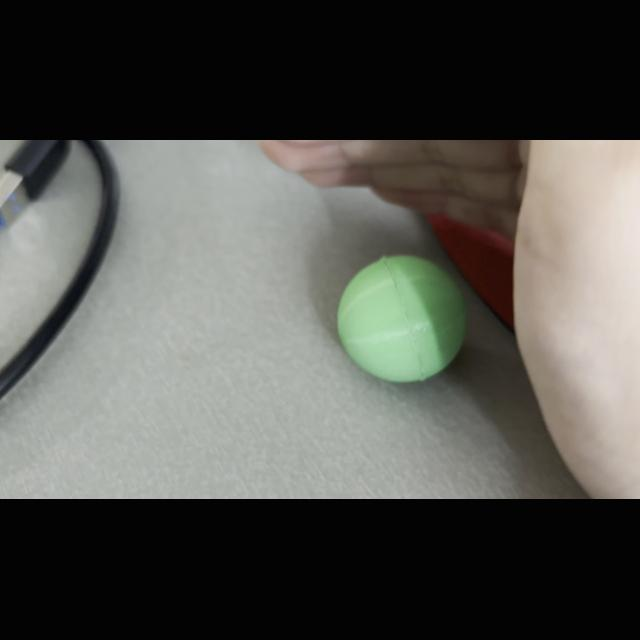objects: (332, 248, 474, 388)
